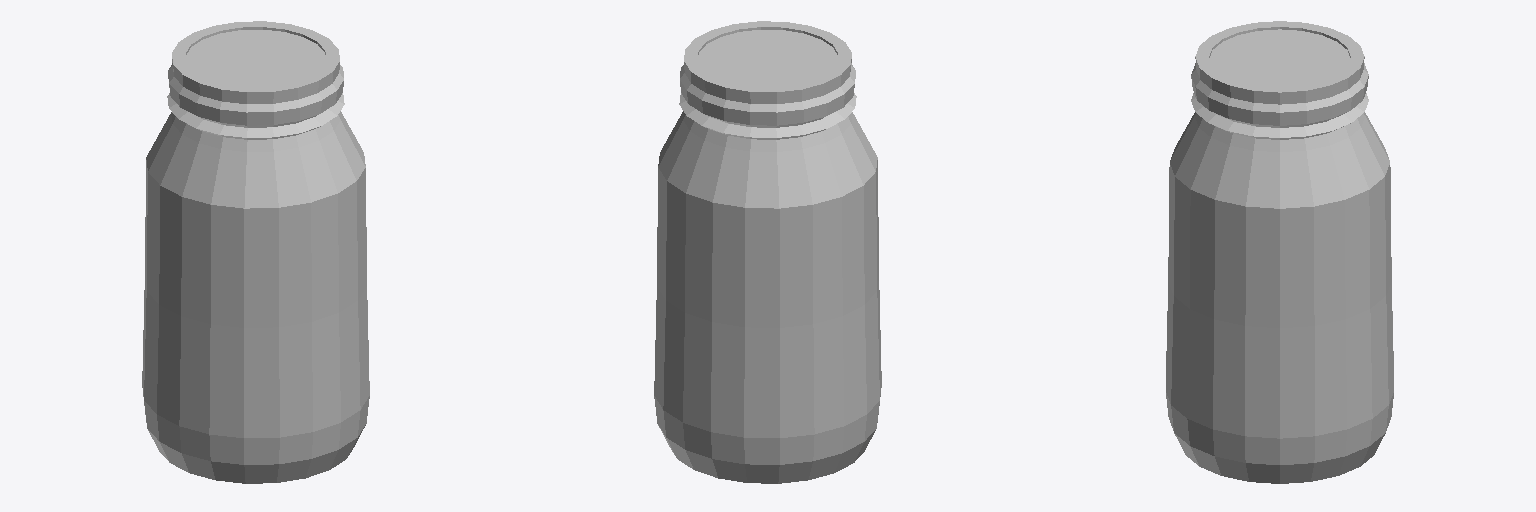
The model's file is Mason Jar.obj.
The picture shows the model from 3 angles: view 1: azimuth 30°, elevation 25°; view 2: azimuth 150°, elevation 25°; view 3: azimuth 270°, elevation 25°; orthographic projection.
Visible parts, largest first — view 1: Cylinder_Cylinder.002; view 2: Cylinder_Cylinder.002; view 3: Cylinder_Cylinder.002.
Part boxes in pixels (x1,y1,x2,y2): Cylinder_Cylinder.002: (142,21,369,483); Cylinder_Cylinder.002: (654,21,881,483); Cylinder_Cylinder.002: (1166,21,1393,483).
Bounding box in the file's own units: 2.41 × 4.62 × 2.41.